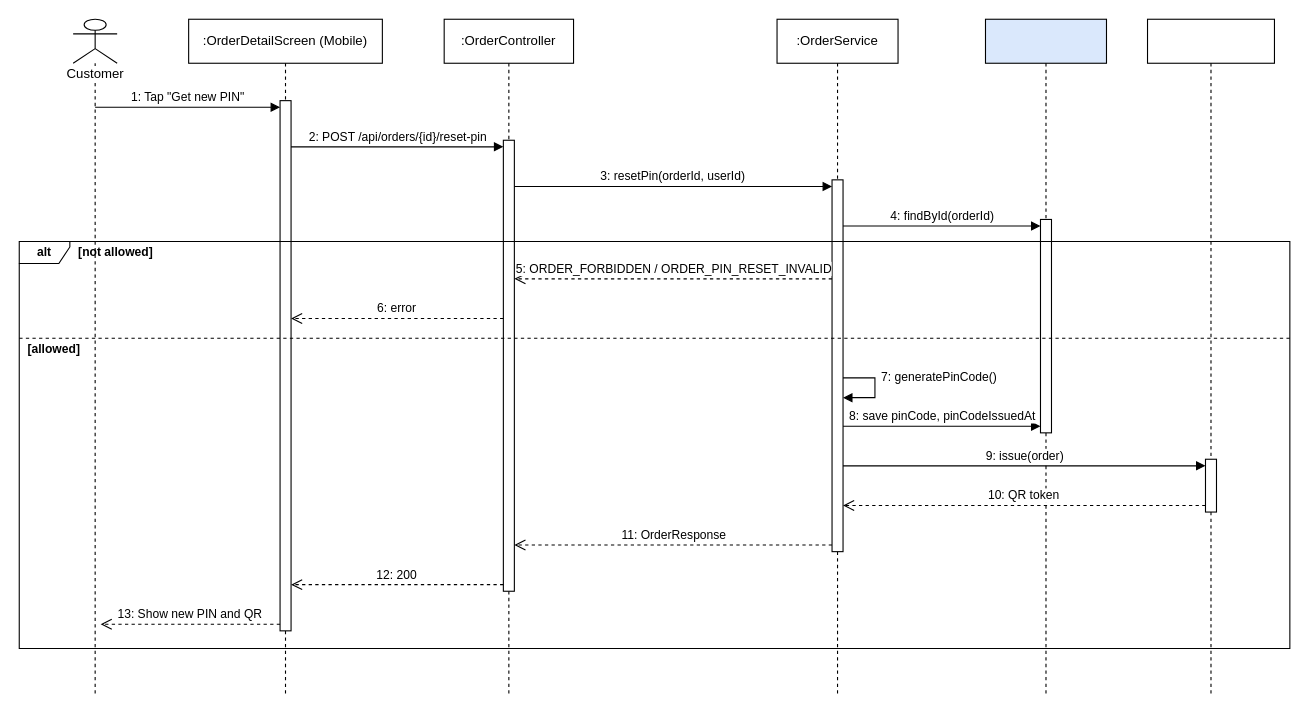
Some shapes in this 1311 by 714 pixel diagram are drawn without their labels. The shapes that lost their labels are listed below. From the top down, each one's box as (x1, y1, x2, y2) in pixels, then its label:
(984, 18, 1106, 695): :order_db
(1146, 18, 1274, 695): :QrTokenService
